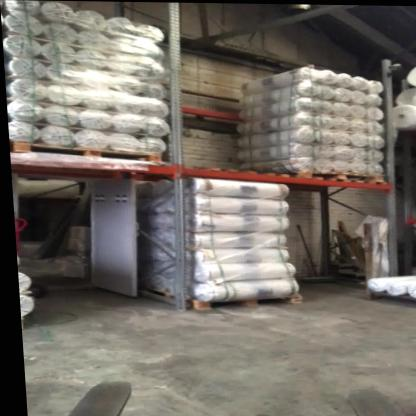vertical_damage: (167, 265, 201, 313)
